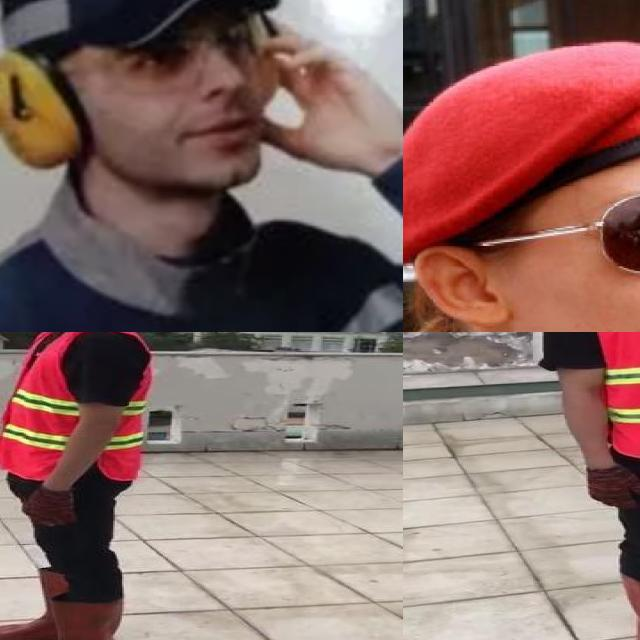Ear-protection: (0, 56, 97, 153)
No_Ear-Protection: (405, 233, 515, 332)
boots: (0, 563, 97, 640), (4, 600, 127, 640), (620, 569, 640, 640)
glasses: (97, 31, 281, 82)
hand_glove: (20, 489, 76, 526)
head_nohelmet: (403, 25, 640, 201)
person: (0, 0, 403, 332), (0, 332, 156, 640), (535, 332, 640, 640)
vest: (0, 332, 150, 483)
